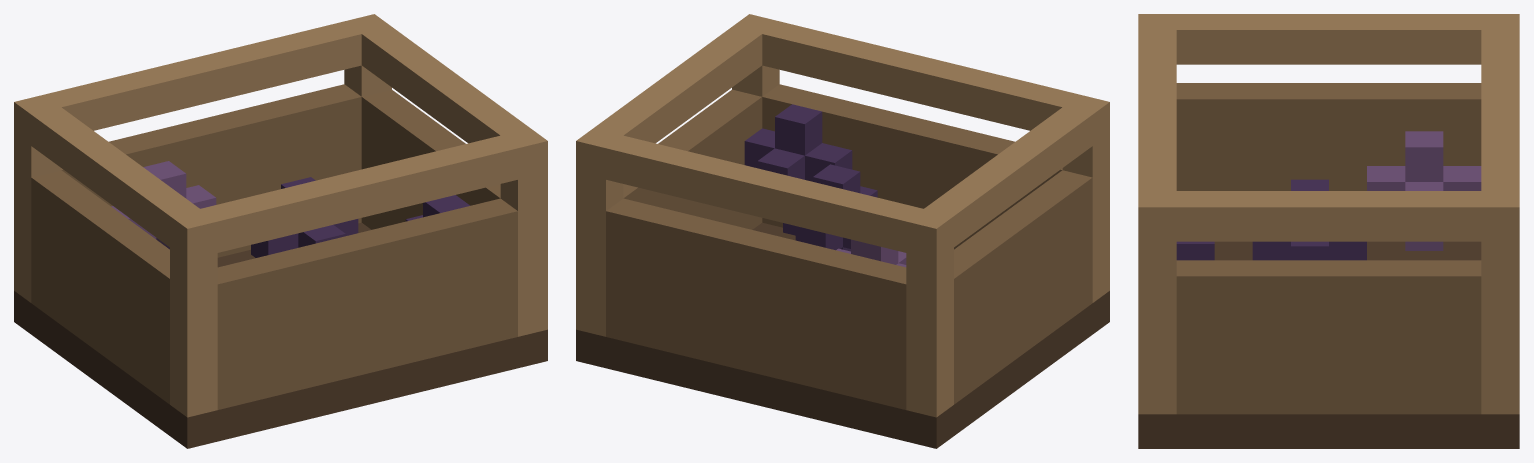
File: elderberry_low.glb
The picture shows the model from 3 angles, left to right: view 1: azimuth 30°, elevation 25°; view 2: azimuth 150°, elevation 25°; view 3: azimuth 270°, elevation 25°; orthographic projection. The views are drawn at different scales.
Parts seen in each view (by area): view 1: VoxelVisual; view 2: VoxelVisual; view 3: VoxelVisual.
Boxes of the visible parts, box(x1,y1,x2,y2) form: VoxelVisual: box(14, 14, 547, 448); VoxelVisual: box(576, 14, 1109, 448); VoxelVisual: box(1138, 14, 1519, 448).
Size of what is drawn, in the model's own units: 0.75 by 0.4375 by 0.625.
